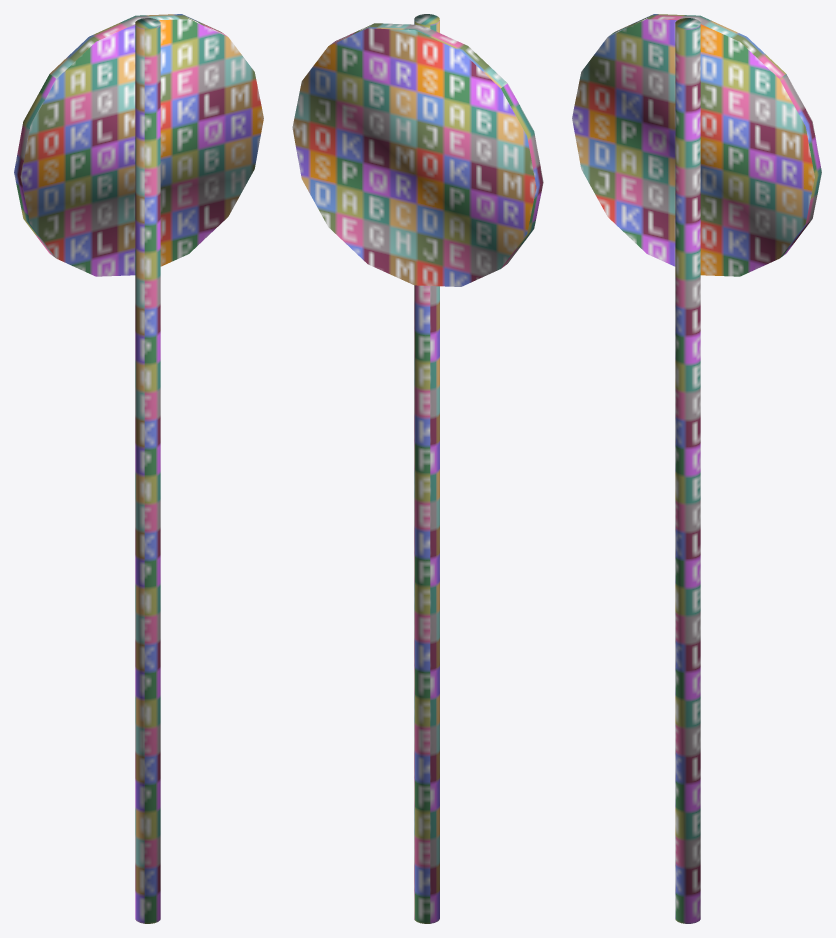
File: sign_stop.obj
The picture shows the model from 3 angles, left to right: view 1: azimuth 30°, elevation 25°; view 2: azimuth 150°, elevation 25°; view 3: azimuth 330°, elevation 25°; orthographic projection.
Visible parts, largest first — view 1: Cylinder1; view 2: Cylinder1; view 3: Cylinder1.
Part boxes in pixels (box(x1,y1,x2,y2)): Cylinder1: box(14, 14, 263, 923); Cylinder1: box(292, 14, 543, 923); Cylinder1: box(572, 14, 821, 923).
Bounding box in the file's own units: 4 × 14.08 × 0.5403.
Materials: 1 (1 with a texture image).
